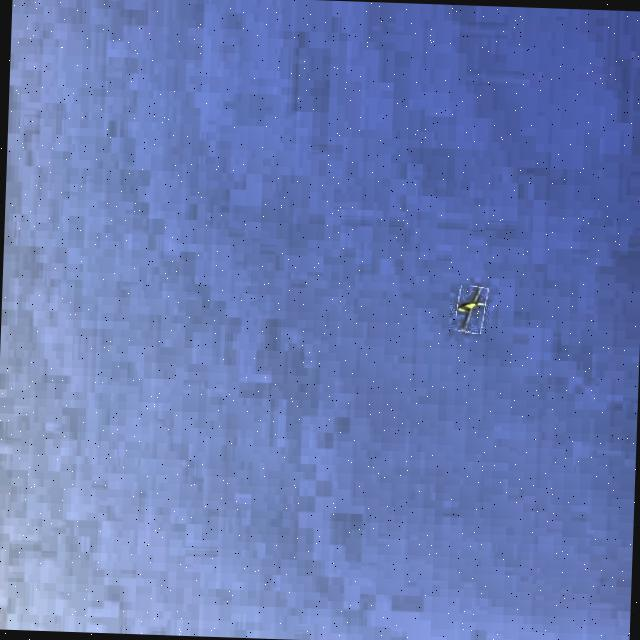iha: (449, 278, 491, 336)
